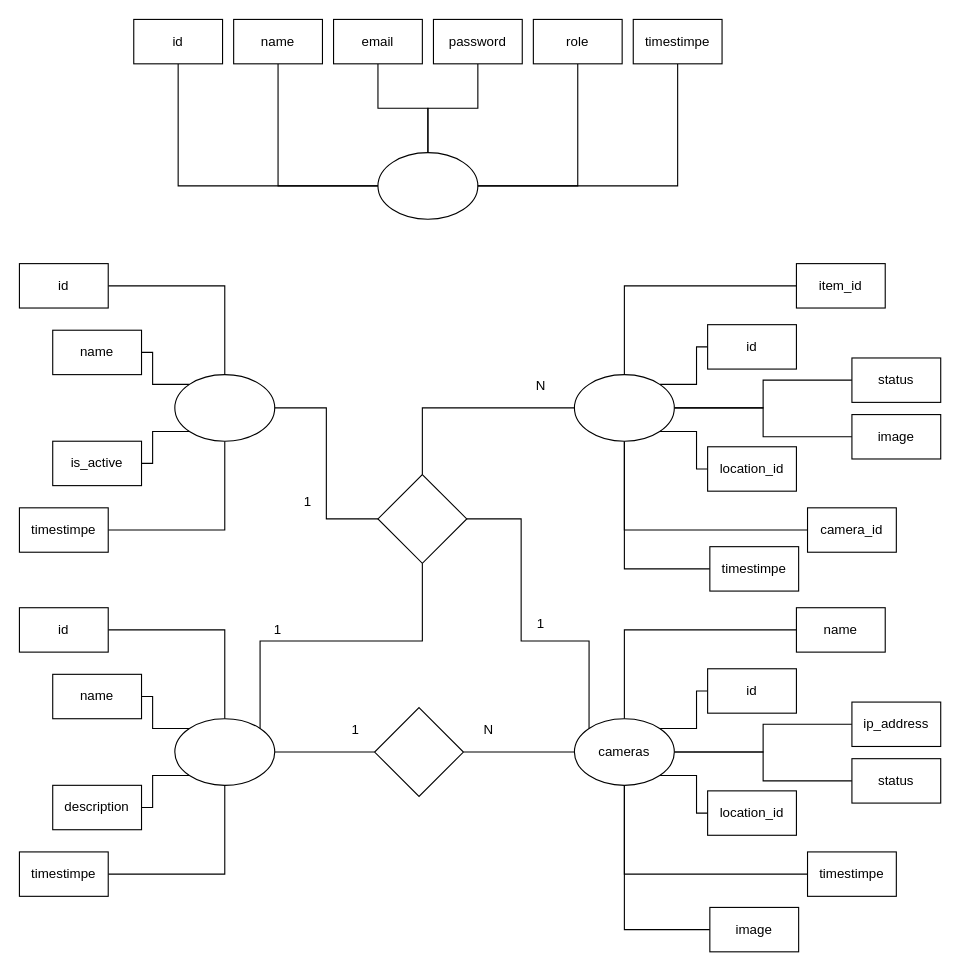
Image size: 960x971. Some labels were removed from this diagram. Here are the shapes that lost their labels. From the top down, the centre of each, then its label:
At point 427,185: "users".
At point 224,407: "items".
At point 623,407: "detections".
At point 422,518: "Muncul".
At point 224,751: "location".
At point 418,751: "Mempunyai".
